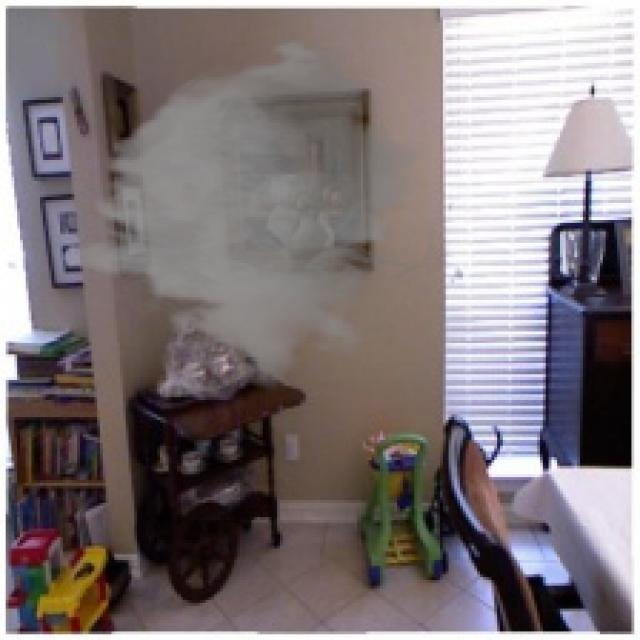smoke: (57, 37, 454, 392)
